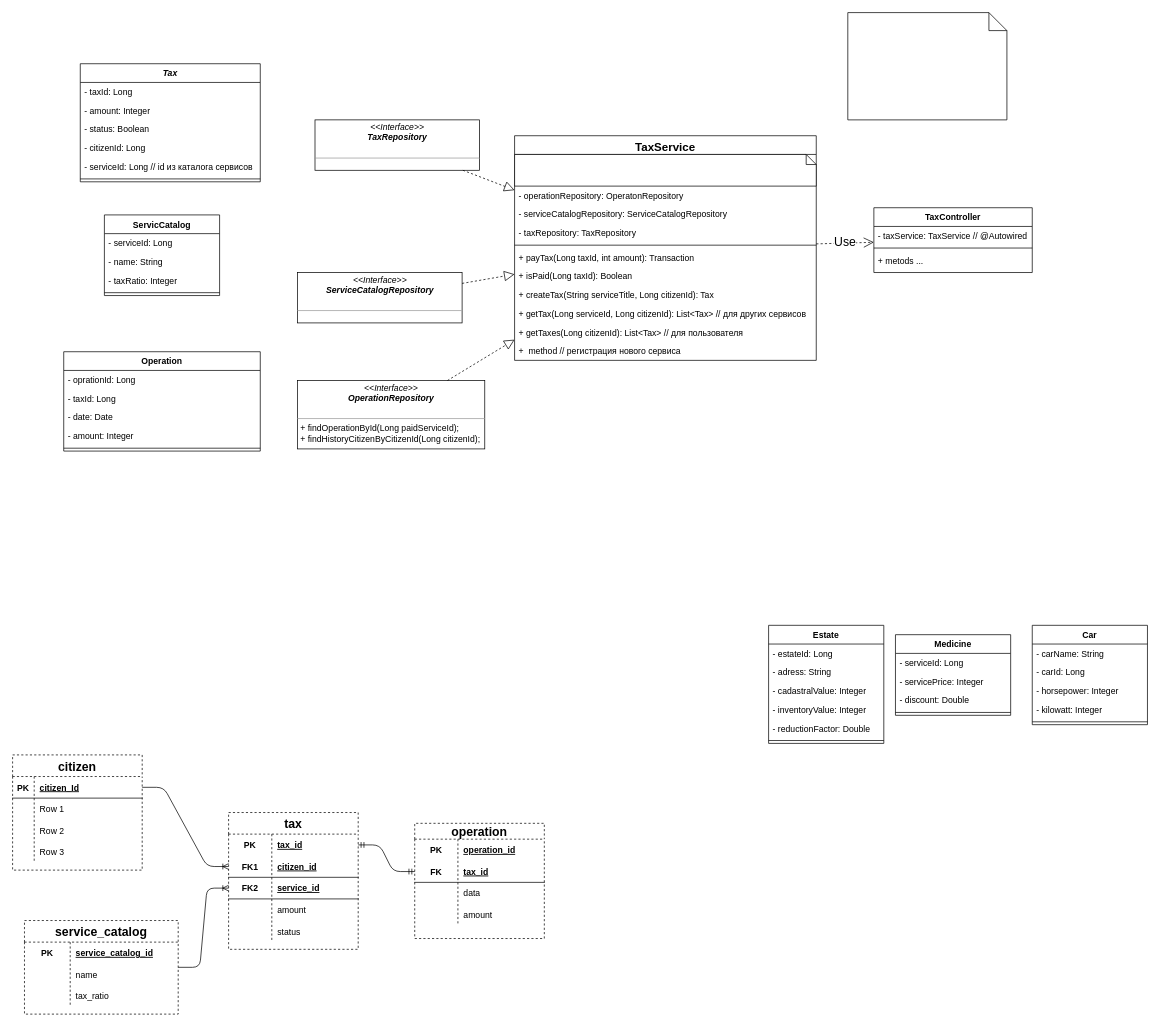
Some shapes in this 1161 by 1027 pixel diagram are drawn without their labels. Here are the shapes that lost their labels. From the top down, the centre of each, then its label:
point 927,66: Как я узнаю о сервисе ( через название или через полученный serviceId )
point 665,170: класс - @Service поля - @Autowired
